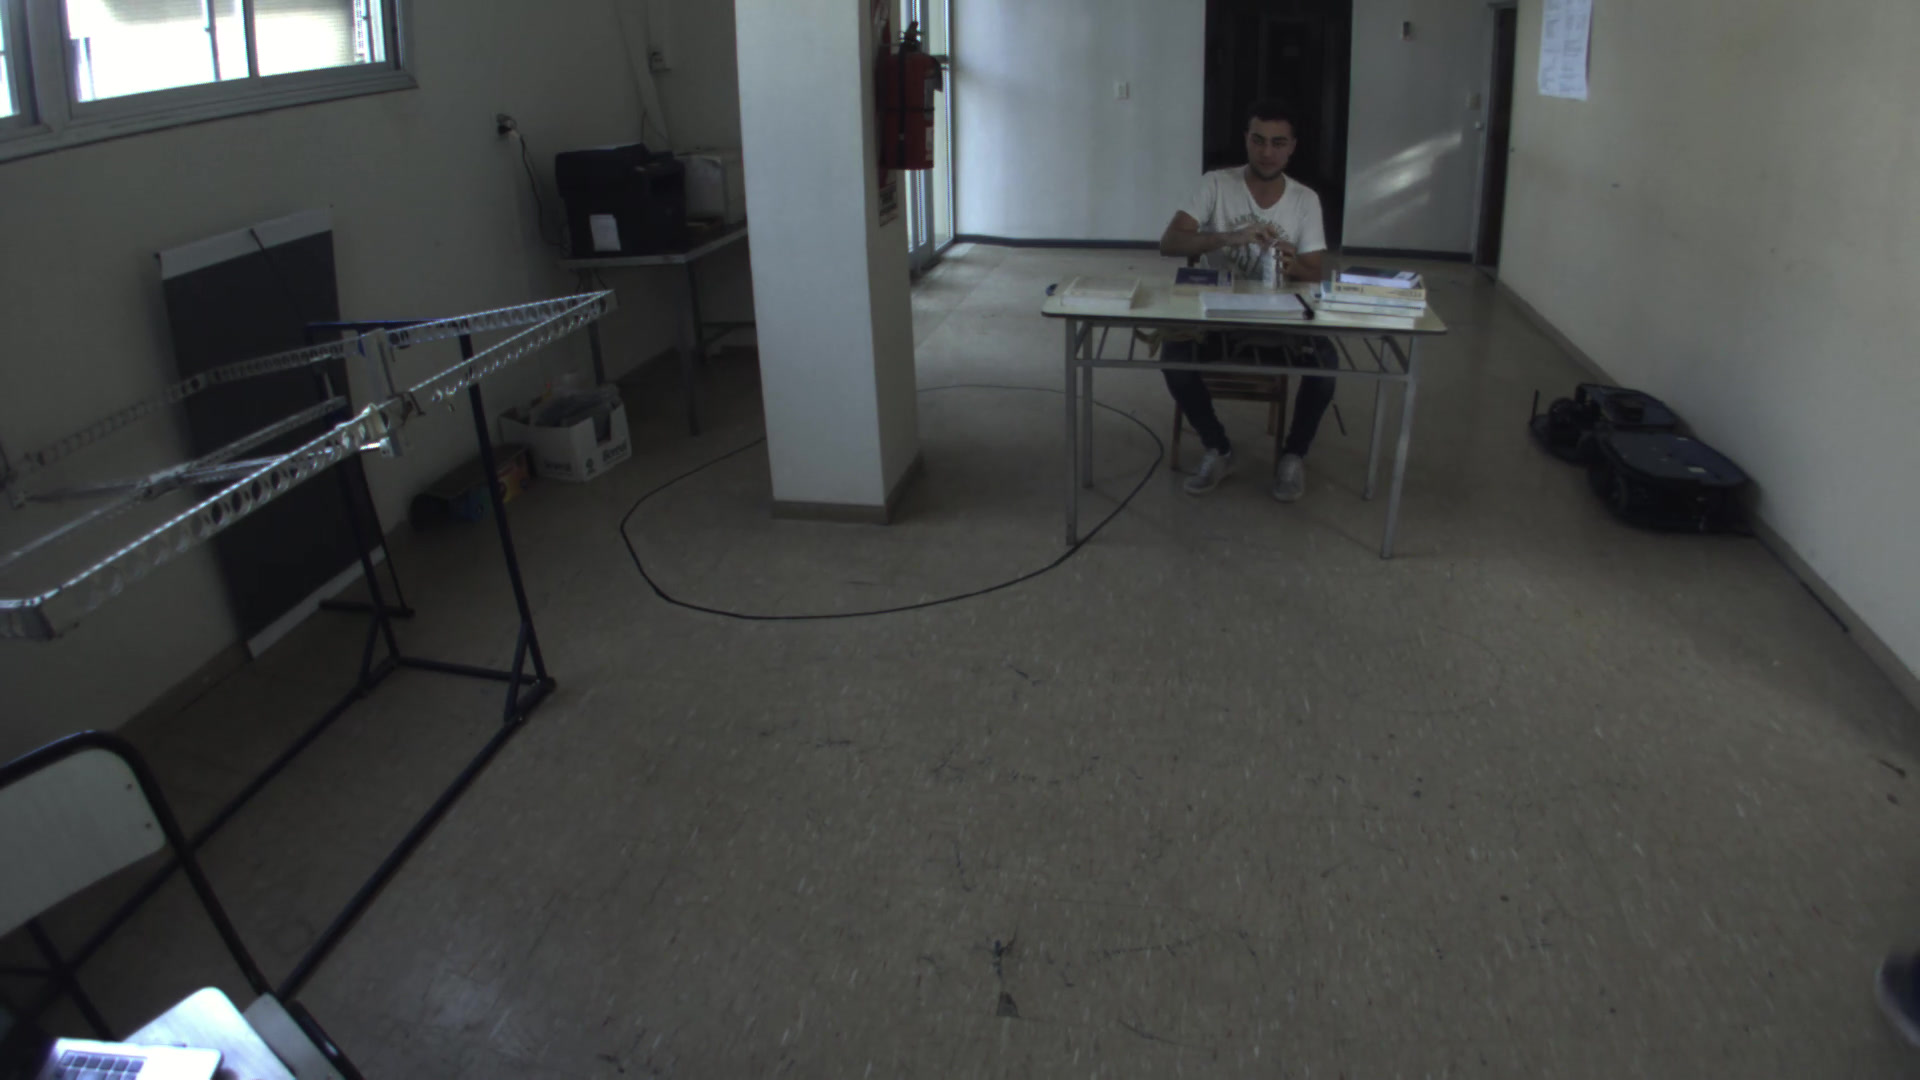hand: (1226, 215, 1275, 253), (1267, 235, 1298, 280)
